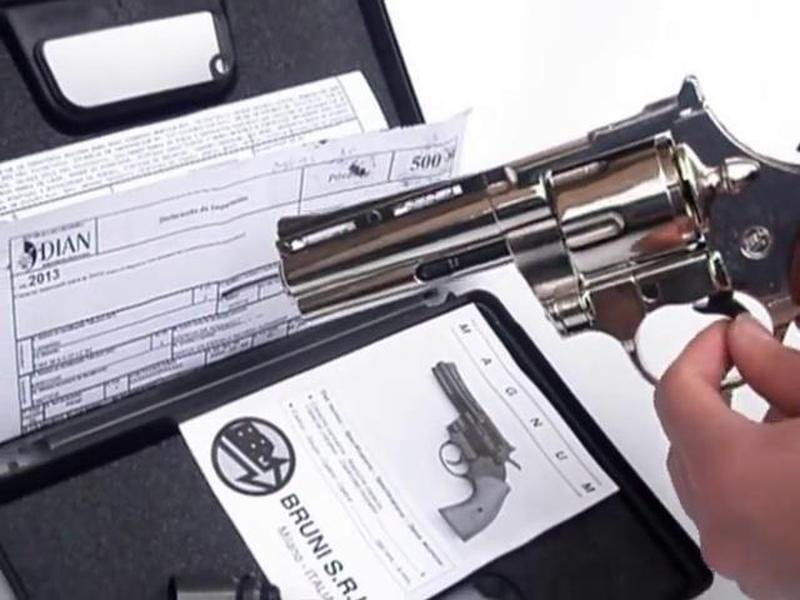Revolver: (235, 59, 800, 348)
